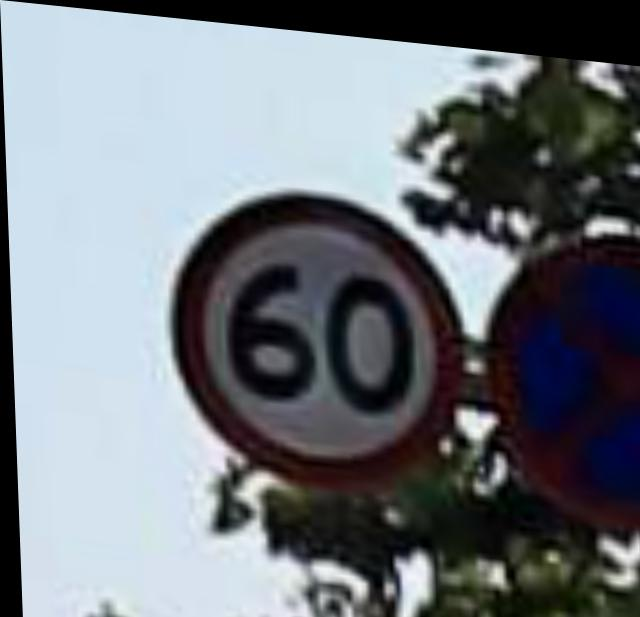limit60: (164, 179, 480, 493)
